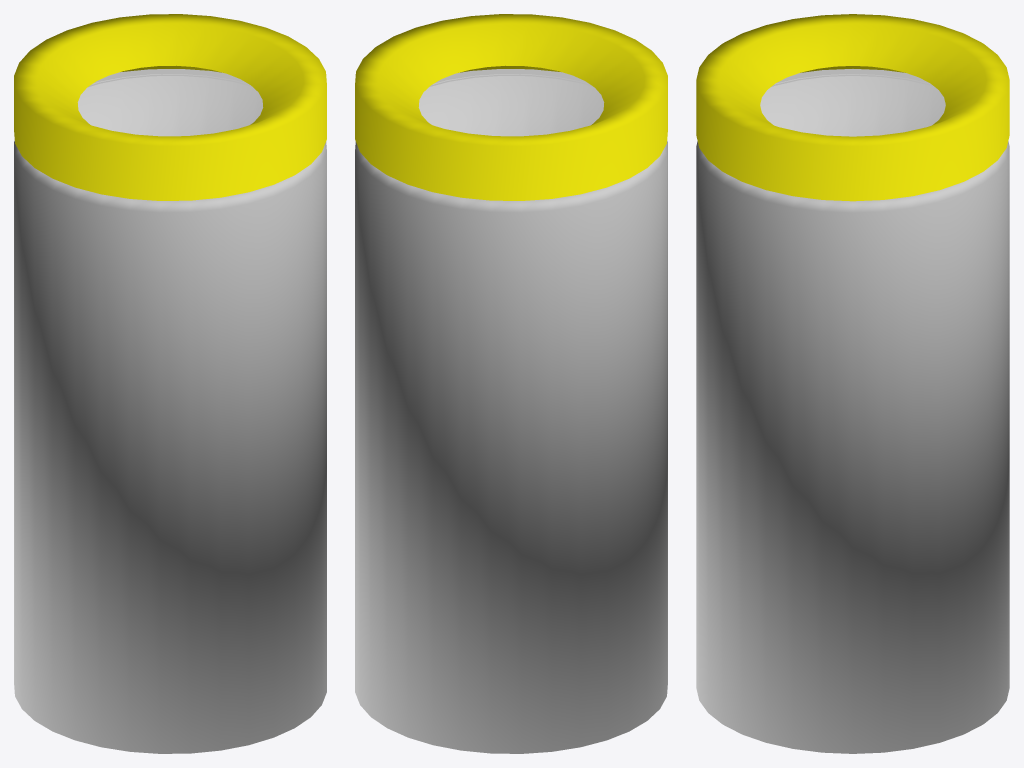
File: lixeira metal.fbx
3 views of the same model, side by side, from view 1: azimuth 30°, elevation 25°; view 2: azimuth 150°, elevation 25°; view 3: azimuth 270°, elevation 25° (orthographic).
Visible parts, largest first — view 1: Cylinder; view 2: Cylinder; view 3: Cylinder.
Boxes of the visible parts, left/top/right/bottom form: Cylinder: left=14, top=14, right=326, bottom=753; Cylinder: left=355, top=14, right=667, bottom=753; Cylinder: left=696, top=14, right=1009, bottom=753.
Bounding box in the file's own units: 200 × 428 × 200.
